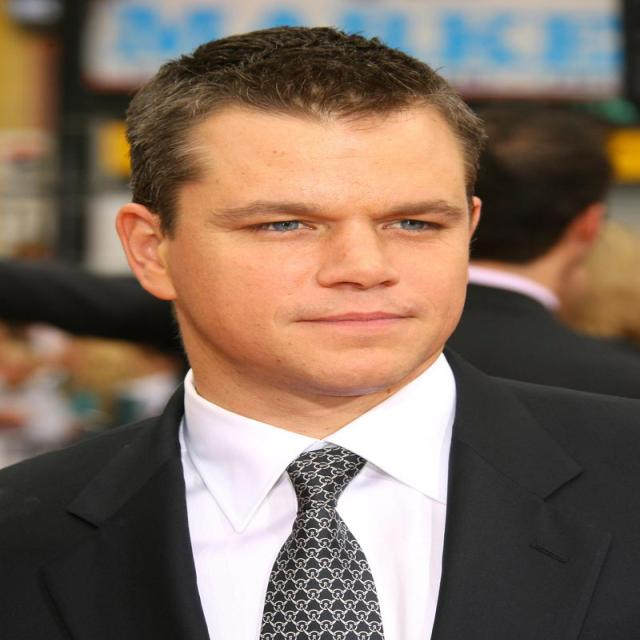no-earmuff: (99, 190, 197, 315), (568, 184, 619, 257), (464, 184, 493, 262)
